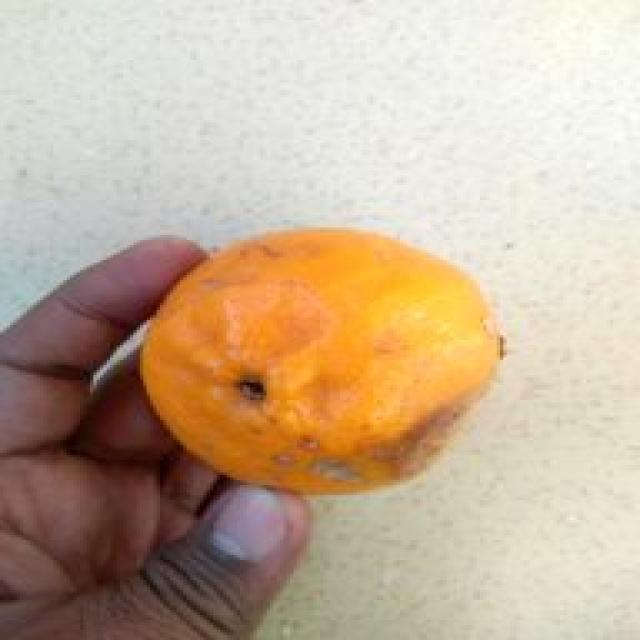Bad_Orange: (142, 229, 503, 493)
